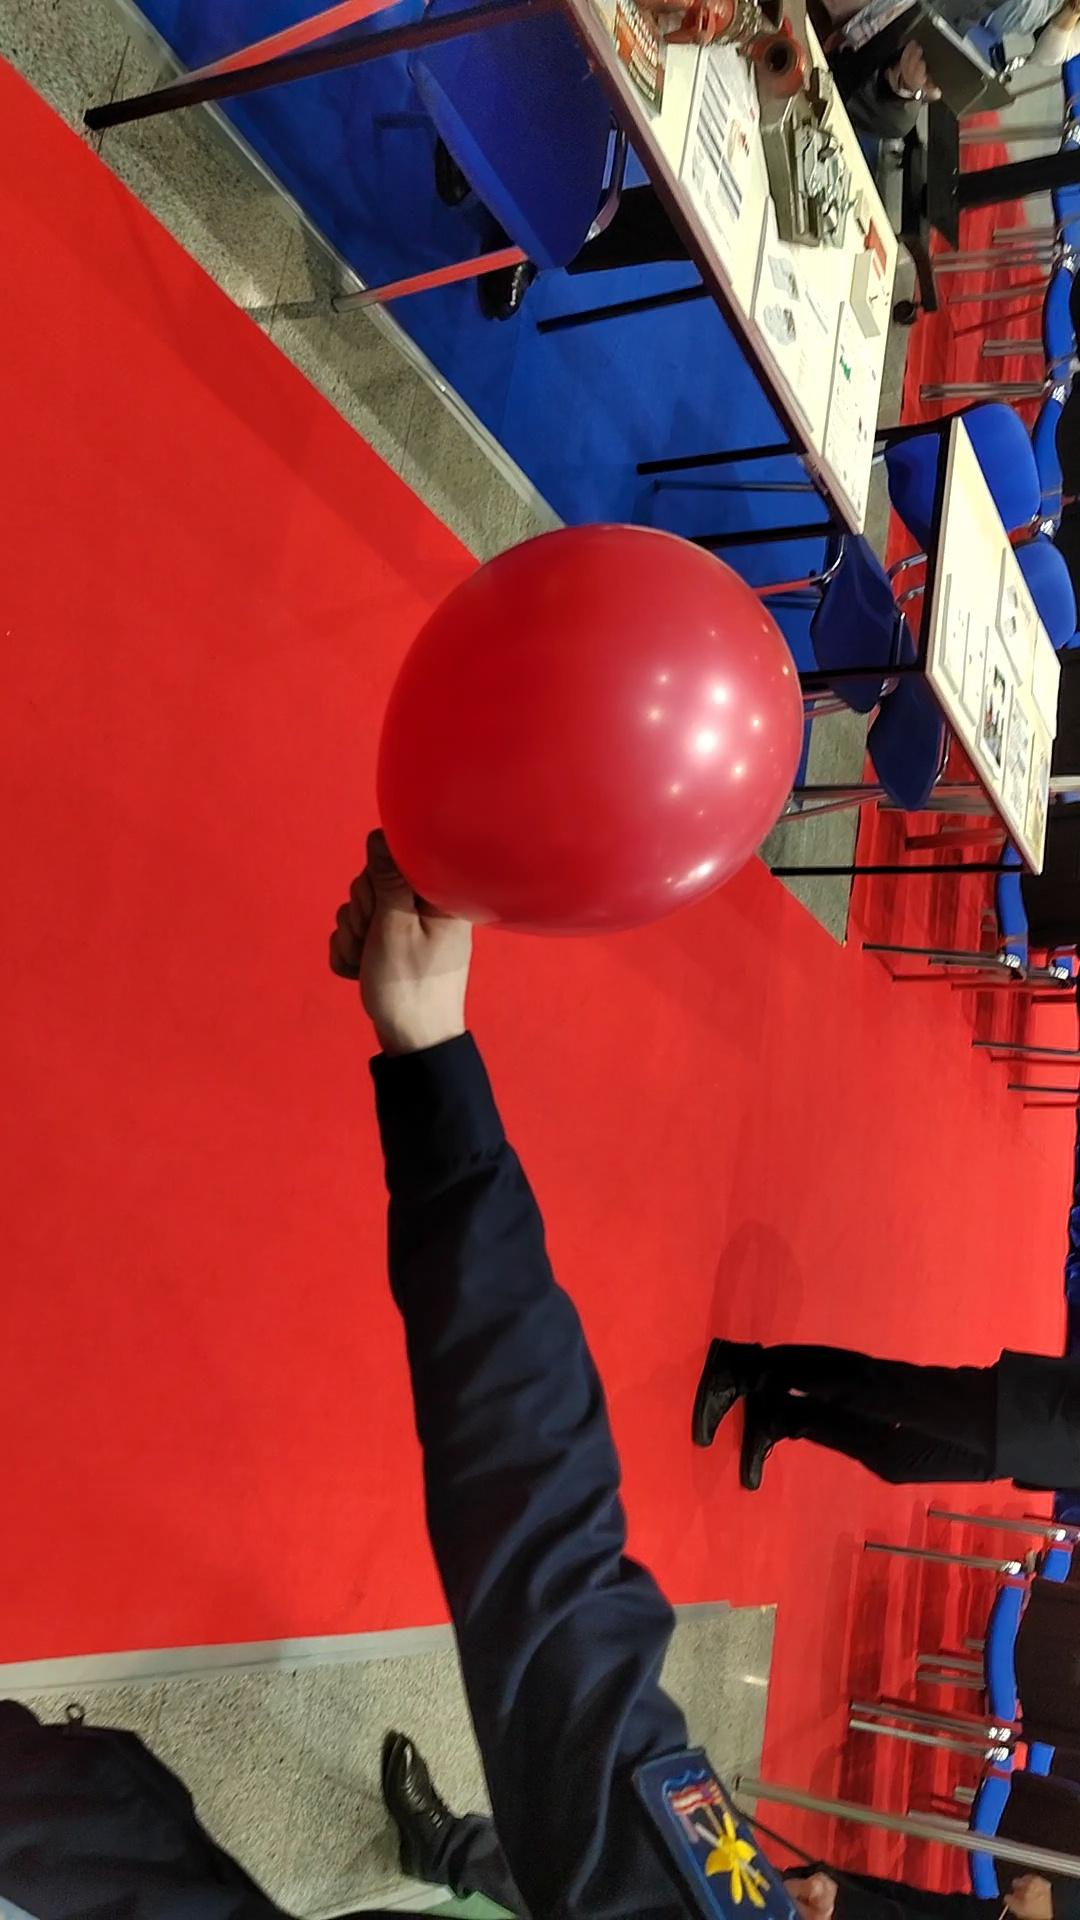red: (373, 518, 814, 940)
